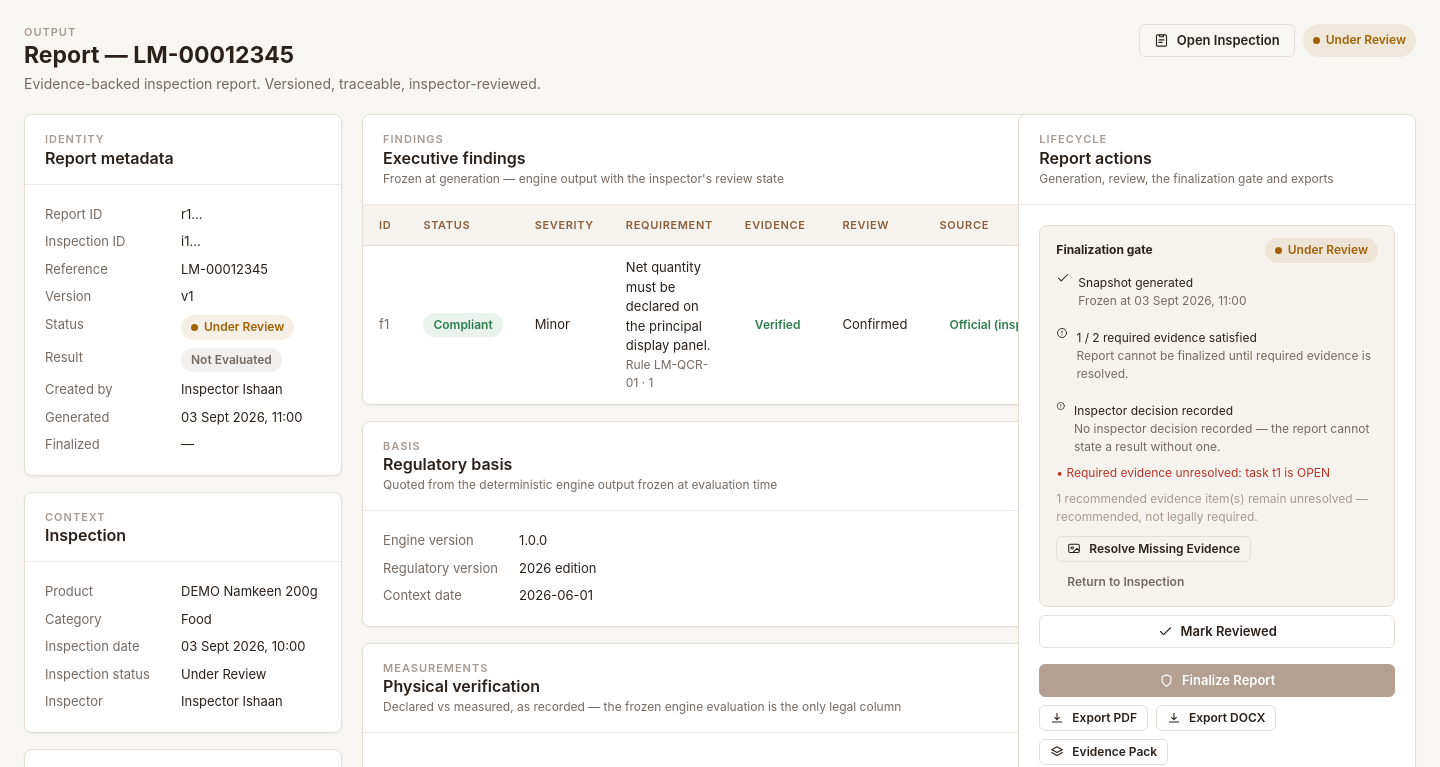
Test: ReportDetailPage (UI-08) › opens the evidence pack drawer with stable E-00N identifiers
Click the button "Evidence Pack": (1104,752) [1039,738,1168,764]
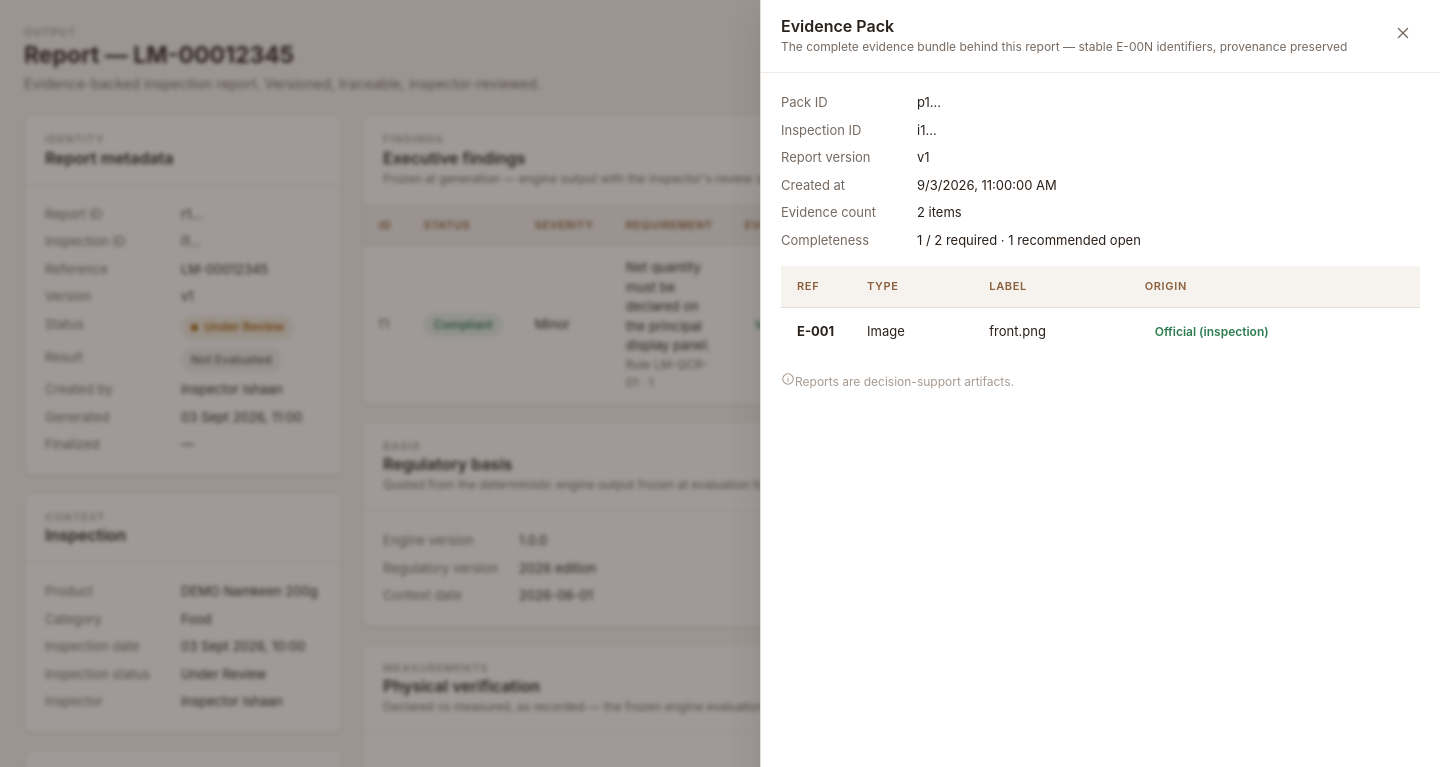
Now the text "E-001" is shown, box [797,323,834,339]
Now the text "2 items" is shown, box [917,204,962,220]
